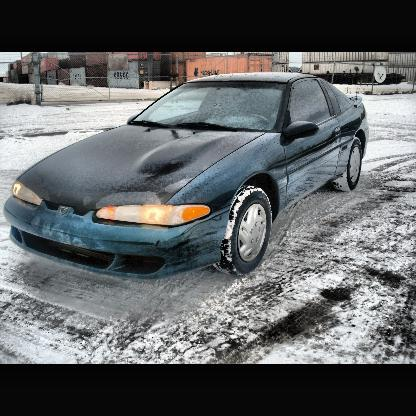Eagle Talon Hatchback 1998: (6, 71, 366, 276)
